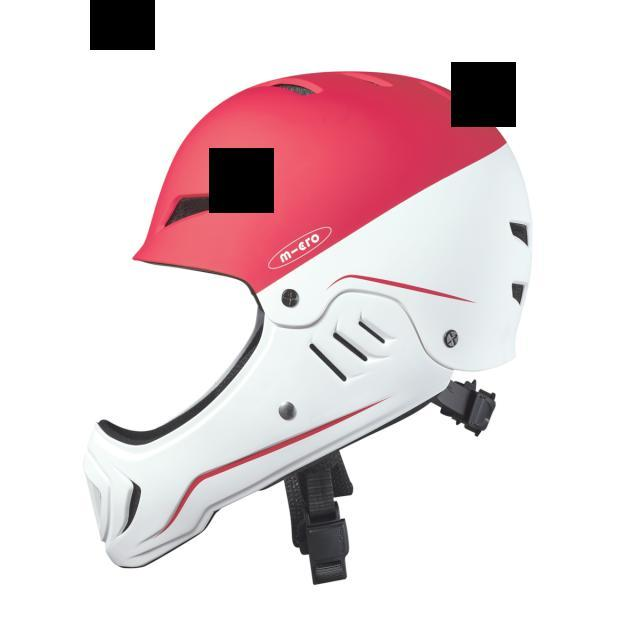helmet: (75, 59, 566, 595)
